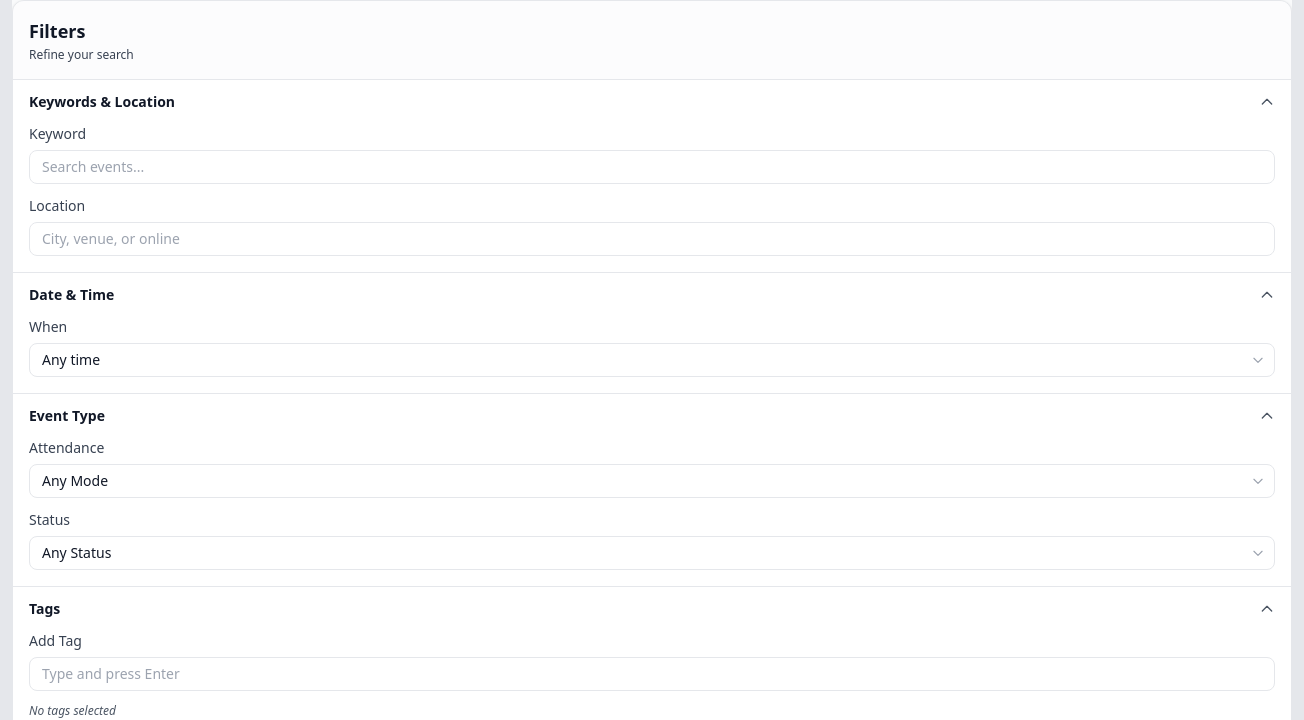
Test: SearchFilters › user can collapse and expand filter sections
Expected: the dropdown labelled "When" is shown, [29,343,1275,377]
Step 1. Click the button "Date & Time" → x=72, y=294, box [13,273,1291,317]
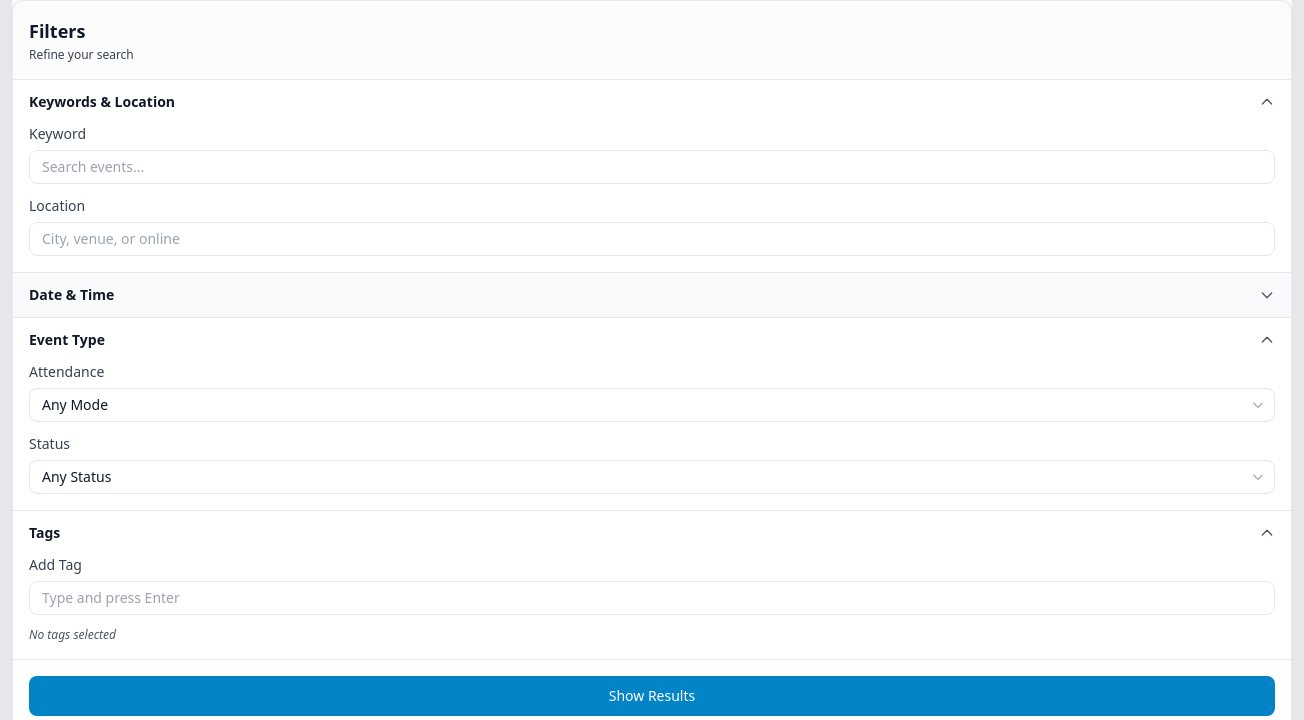
Result: the label labelled "When" is gone
